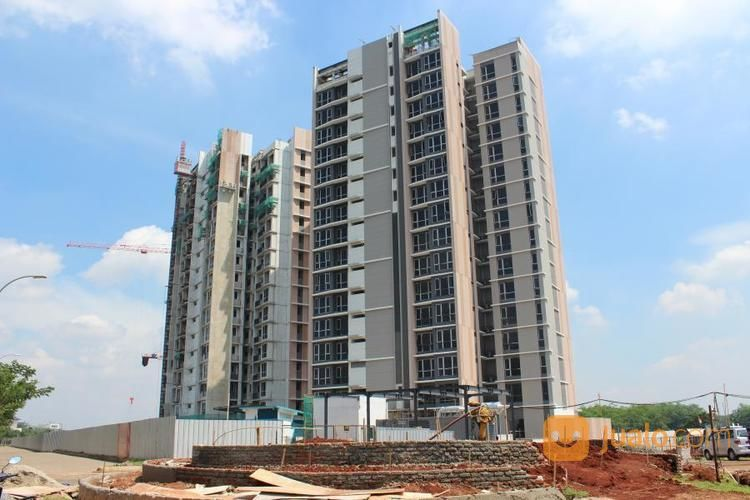Sky Building: (151, 11, 577, 423)
